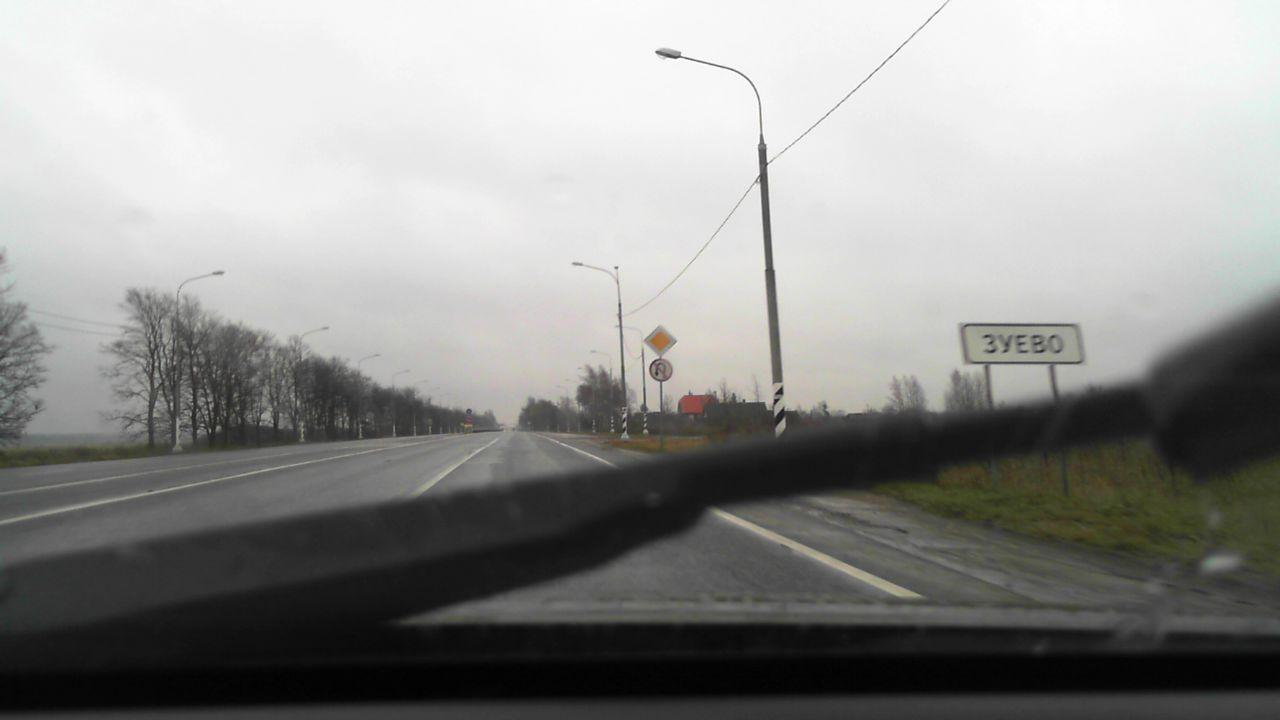2_1: (643, 325, 678, 353)
3_19: (649, 358, 673, 381)
5_23_1: (954, 320, 1091, 373)
